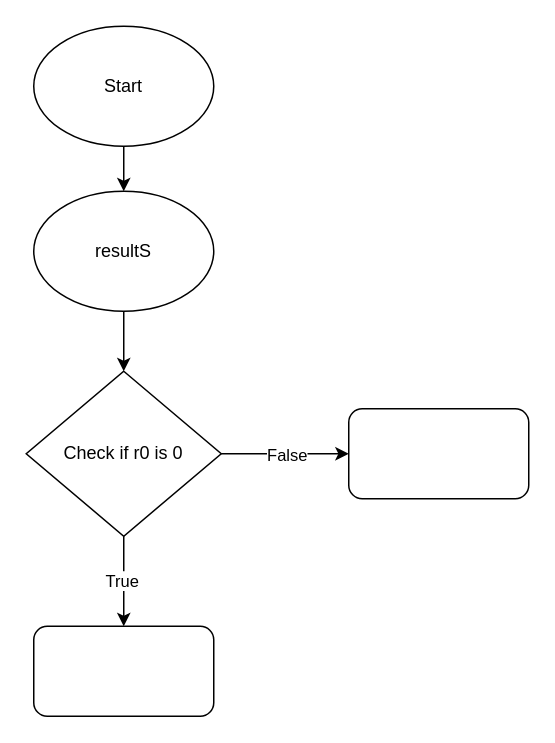
This 555x743 diagram has some shape labels left out. Here are the shapes that lost their labels. From the top down, the box of each, then its label:
(347, 407, 529, 499): Print Prime message
(32, 625, 214, 716): Print NotPrime message
